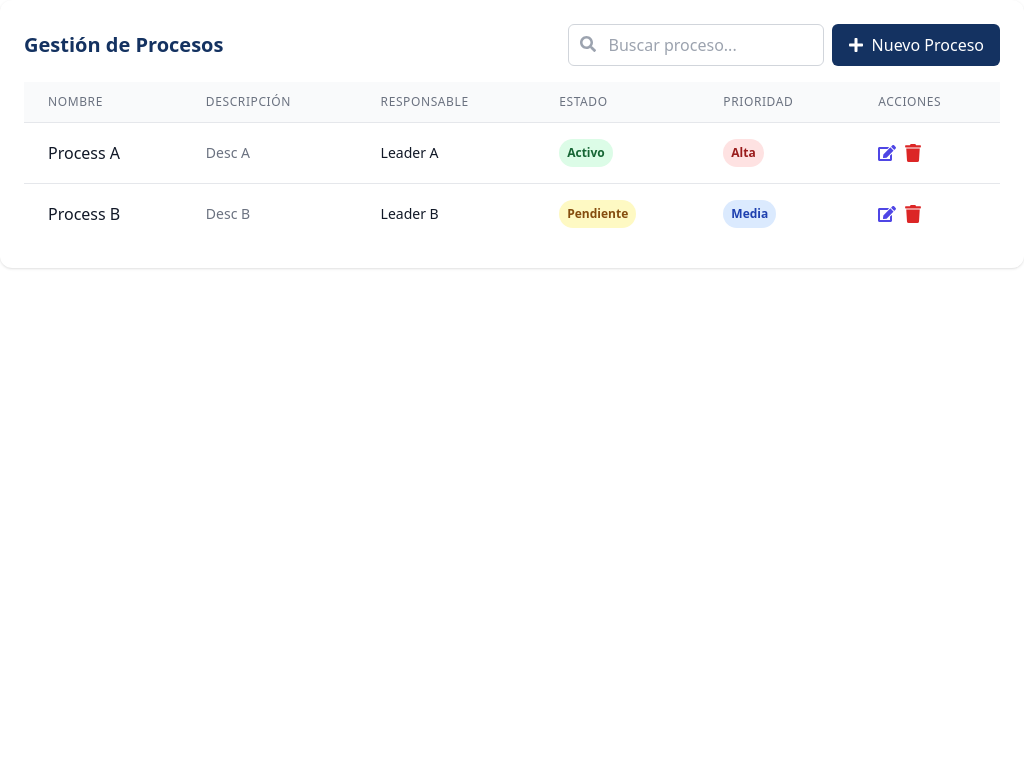
ProcessManagement › should edit process successfully
The width and height of the screenshot is (1024, 768).
Expected: the text "Process A" is shown, 48,142 -> 120,164
Click the 2nd button at (887, 153), box 878,144 -> 896,162
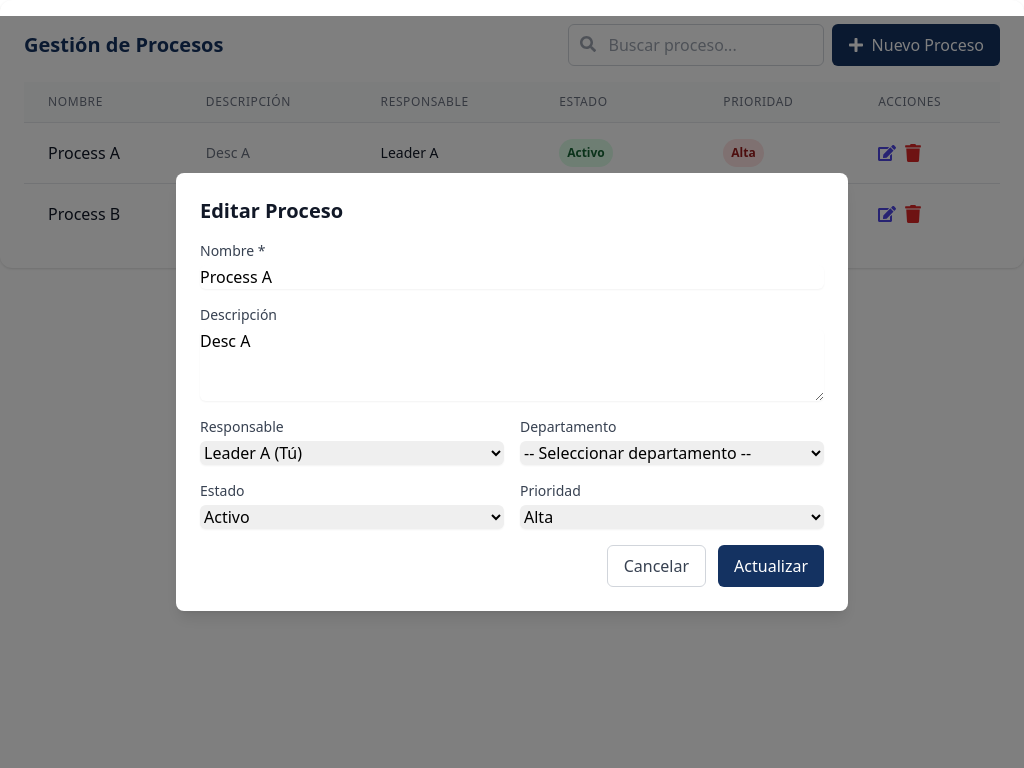
Expected: the heading "Editar Proceso" is shown, 200,197 -> 343,224
Replace the text in the field with placeholder "Nombre del proceso" with "Updated Process A" at (512, 277), box 200,265 -> 824,289
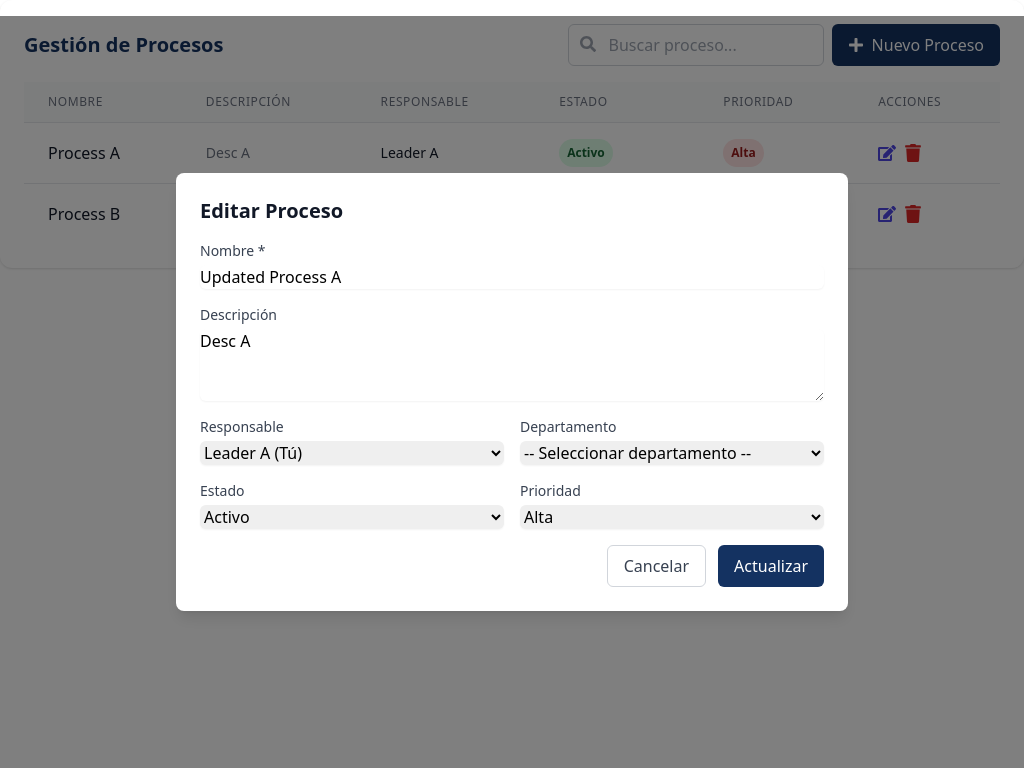
Click the button "Actualizar" at (771, 566), box 718,545 -> 824,587
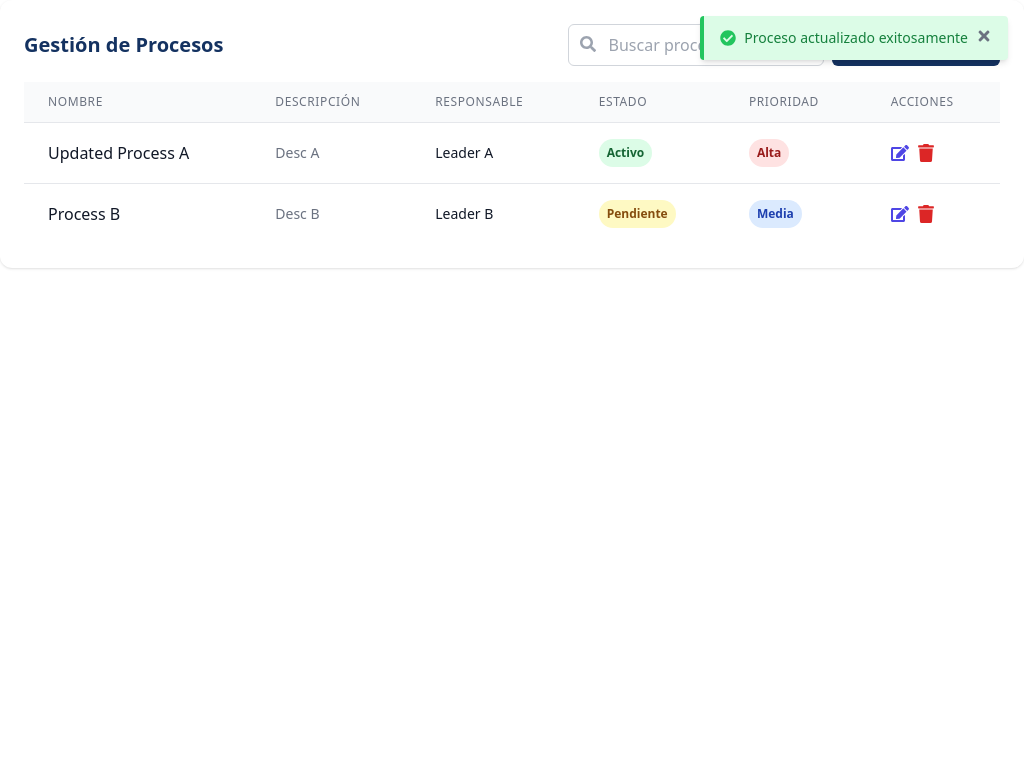
Expected: the text "Updated Process A" is shown, 48,142 -> 189,164
